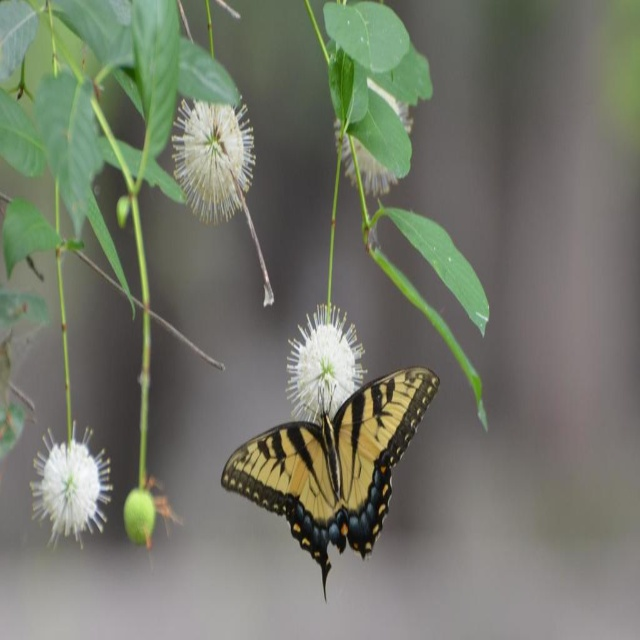Butterfly: (220, 365, 439, 607)
